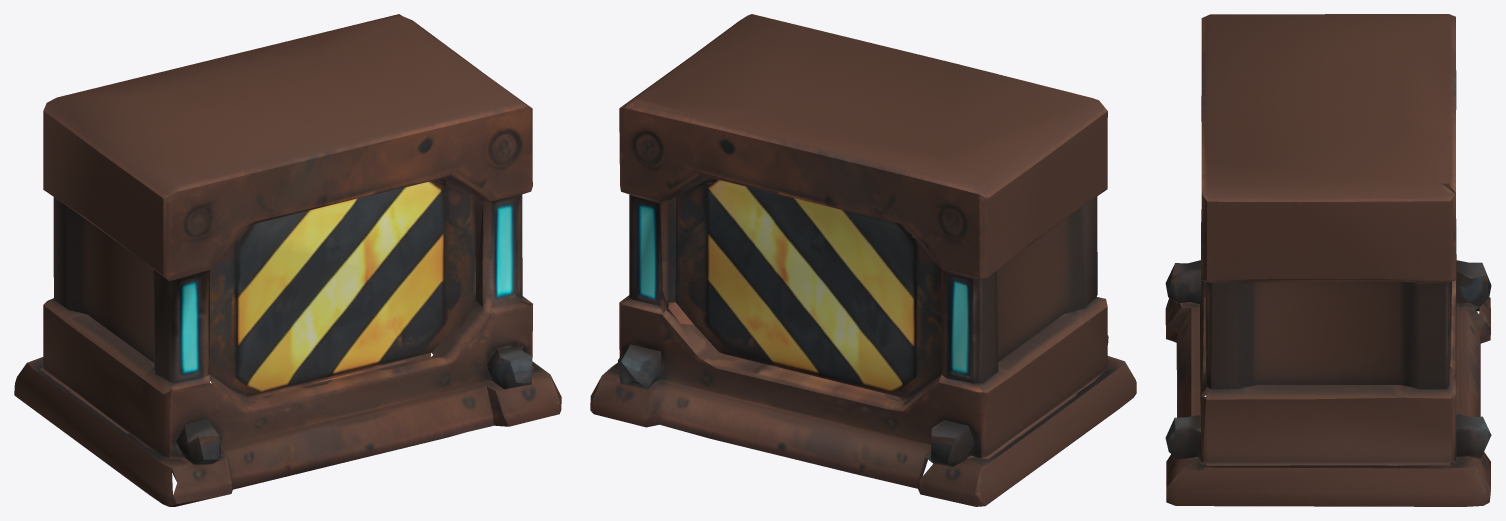
File: Obs3.fbx
The picture shows the model from 3 angles, left to right: view 1: azimuth 30°, elevation 25°; view 2: azimuth 150°, elevation 25°; view 3: azimuth 270°, elevation 25°; orthographic projection.
Visible parts, largest first — view 1: tmpreze03ay.ply; view 2: tmpreze03ay.ply; view 3: tmpreze03ay.ply.
Boxes of the visible parts, bbox=[...] form: tmpreze03ay.ply: bbox=[14, 14, 561, 506]; tmpreze03ay.ply: bbox=[590, 14, 1136, 506]; tmpreze03ay.ply: bbox=[1165, 14, 1491, 506].
Size of the model in its own units: 199 by 147 by 140.
1 material, 1 textured.
